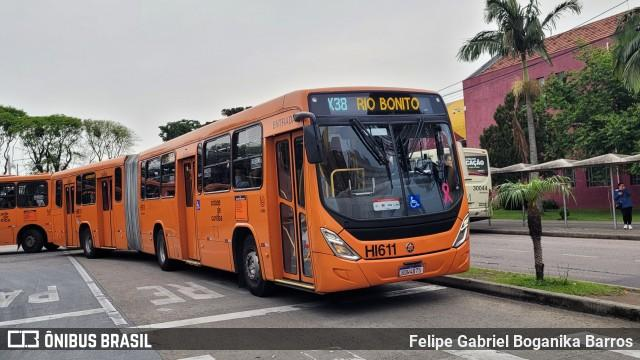RIO BONITO: (350, 94, 425, 114)
